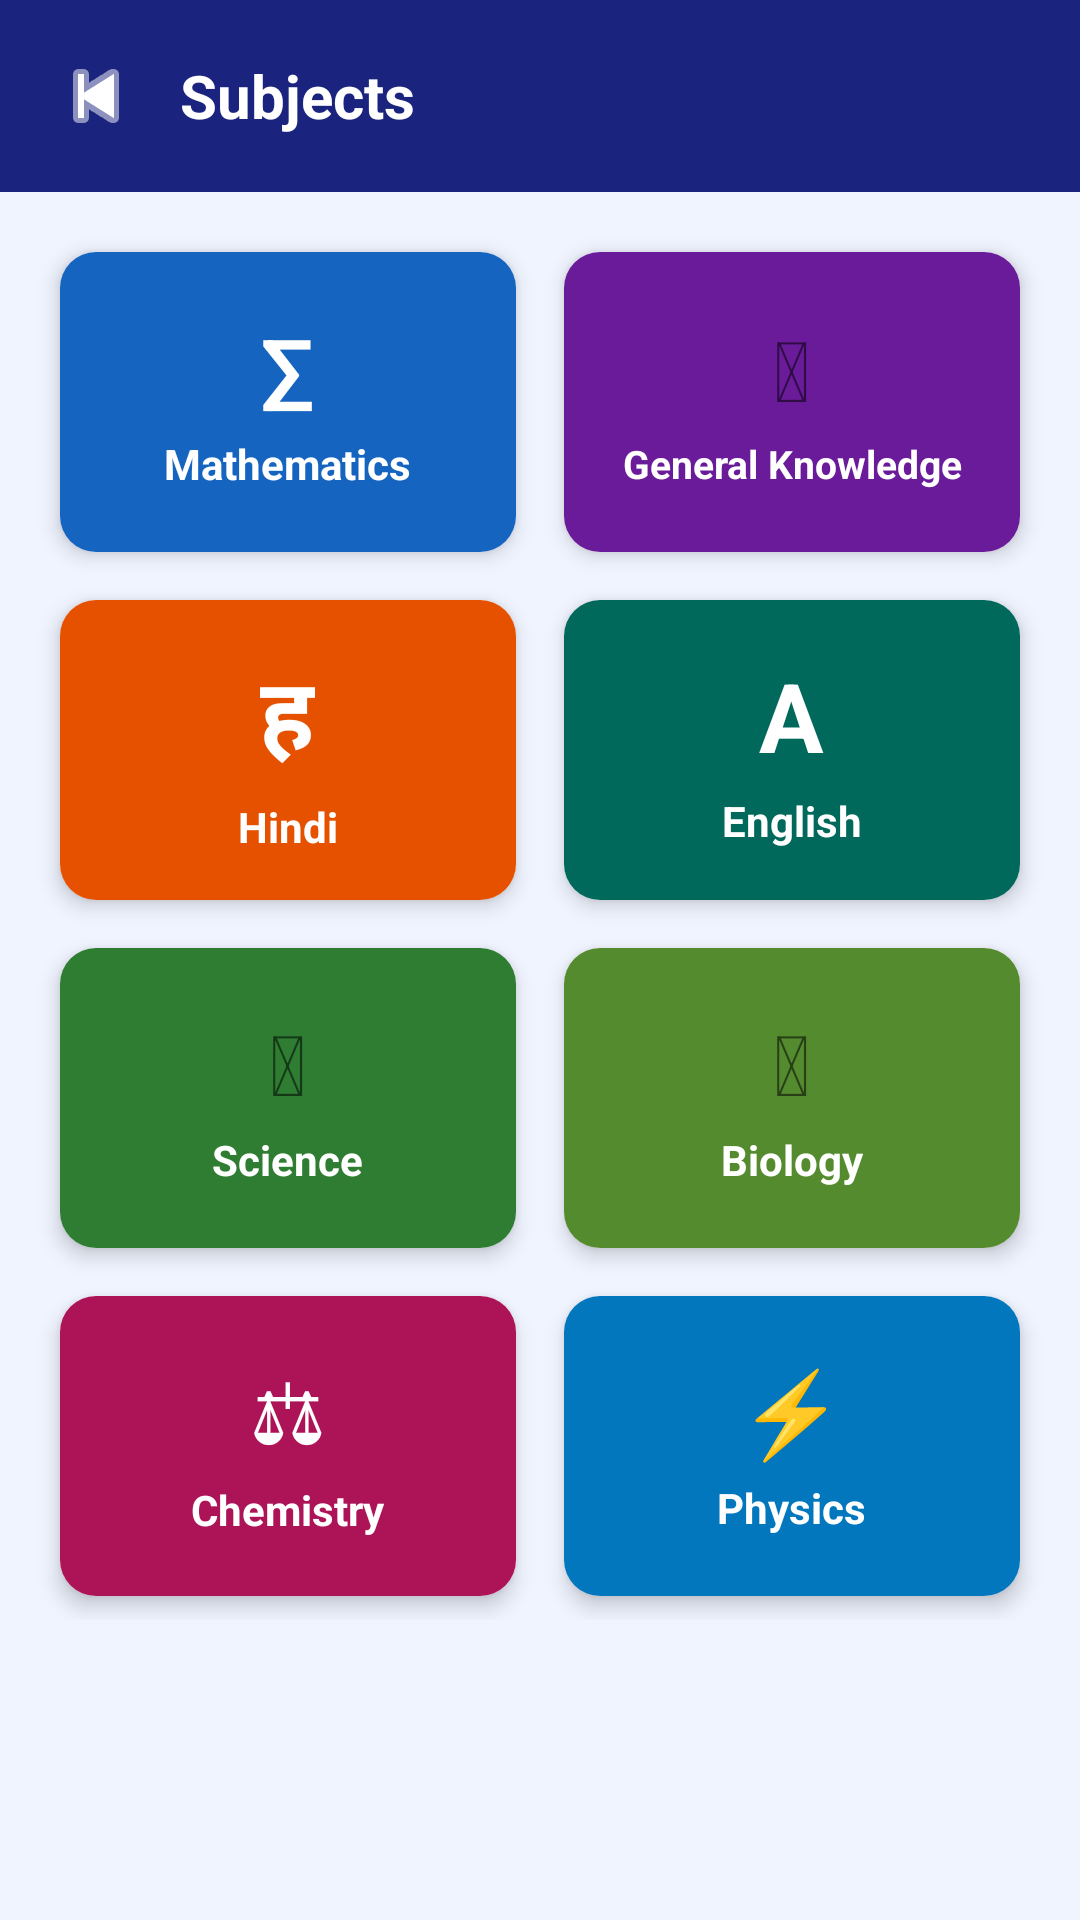

Locate icon controls on the screen. Image size 1080x1920, boxes as (x1, y1, x2, y2).
previous: (73, 69, 119, 123)
